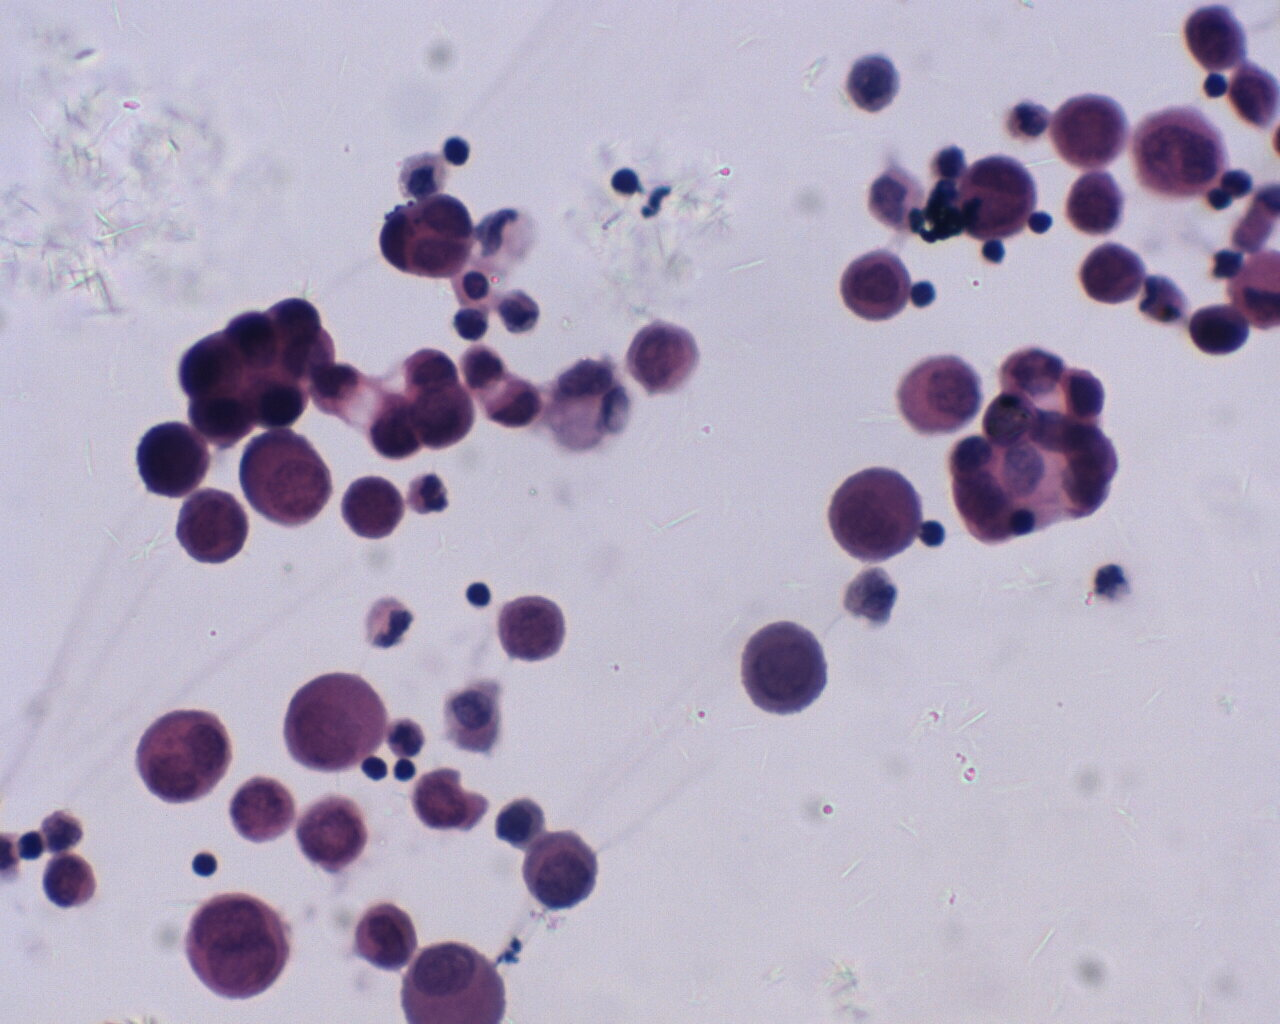ab: (183, 891, 287, 999), (283, 674, 387, 776), (137, 708, 235, 806), (1128, 103, 1224, 204), (828, 466, 921, 566), (738, 620, 829, 719), (245, 432, 332, 527), (898, 352, 983, 434), (956, 154, 1034, 241), (626, 320, 703, 399), (1050, 87, 1128, 164), (526, 831, 600, 912), (133, 422, 210, 499), (836, 247, 913, 322), (173, 491, 247, 567), (298, 799, 370, 875), (338, 472, 408, 541), (498, 594, 567, 662), (1079, 237, 1145, 308), (226, 775, 292, 842), (1064, 171, 1127, 234)
lymph: (911, 275, 937, 311), (192, 850, 220, 882), (464, 575, 490, 609)
neutro: (404, 468, 453, 520)
